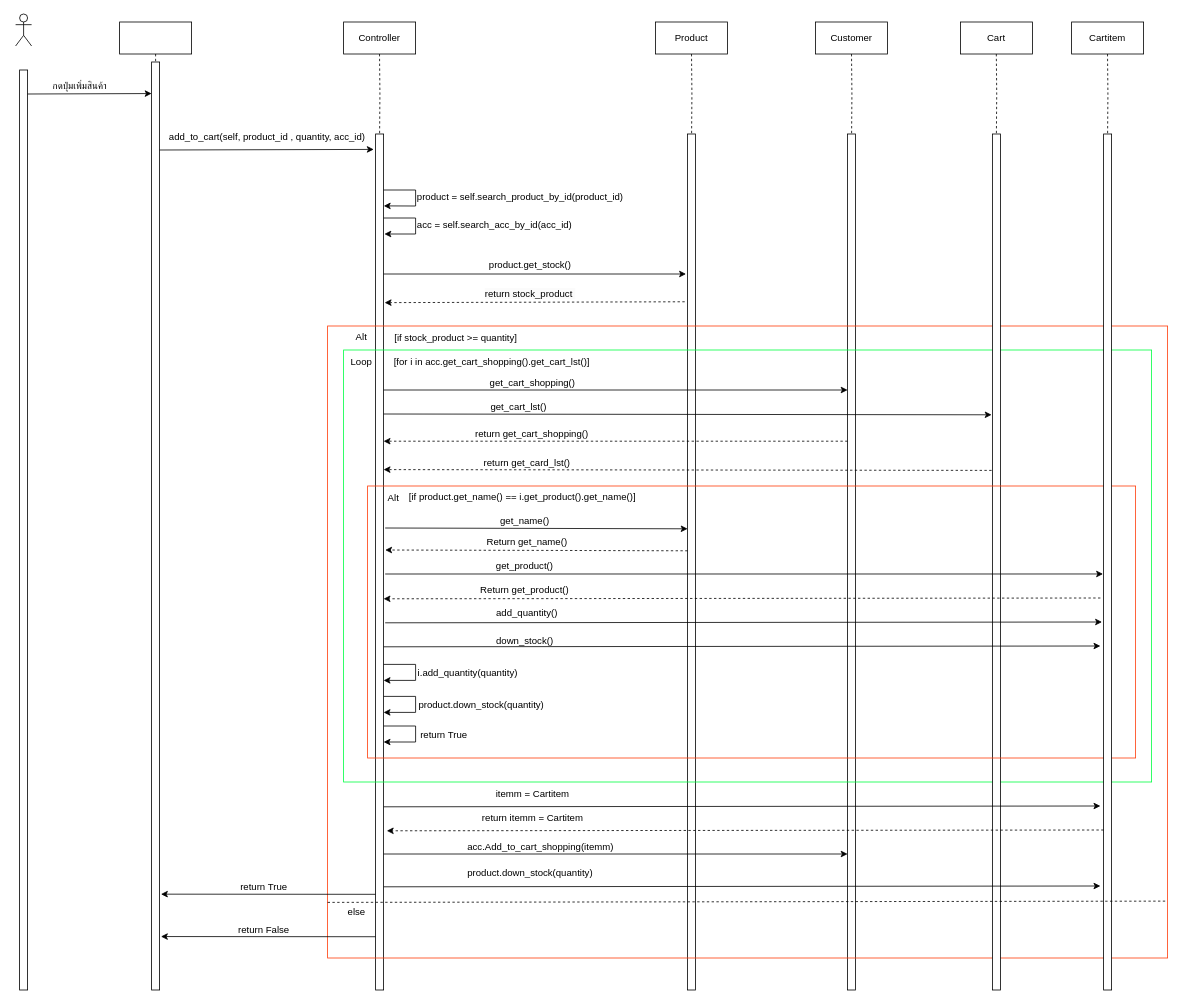
The diagram is 1182 pixels wide and 1004 high, and some of its shapes have lost their labels. Here are the shapes that lost their labels. From the top down, the centre of each, then its label:
point (23, 29): User
point (155, 37): UI
